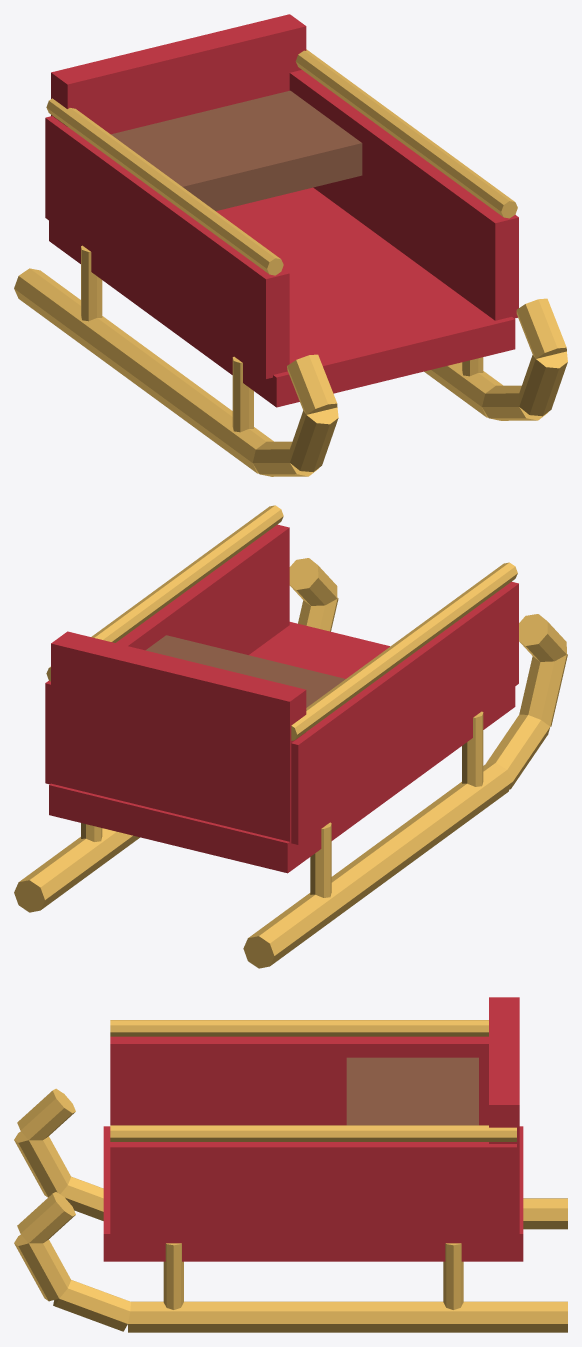
Rendered from sleigh.glb.
The picture shows the model from 3 angles, top to bottom: view 1: azimuth 30°, elevation 25°; view 2: azimuth 150°, elevation 25°; view 3: azimuth 270°, elevation 25°; orthographic projection. The views are drawn at different scales.
Parts seen in each view (by area): view 1: 000-santa-sleigh/0, 000-santa-sleigh/3, 000-santa-sleigh/11, 000-santa-sleigh/2, 000-santa-sleigh/1, 000-santa-sleigh/4, 000-santa-sleigh/10, 000-santa-sleigh/18, 000-santa-sleigh/14, 000-santa-sleigh/6, 000-santa-sleigh/7, 000-santa-sleigh/15 (+5 smaller); view 2: 000-santa-sleigh/1, 000-santa-sleigh/3, 000-santa-sleigh/0, 000-santa-sleigh/11, 000-santa-sleigh/4, 000-santa-sleigh/10, 000-santa-sleigh/18, 000-santa-sleigh/12, 000-santa-sleigh/2, 000-santa-sleigh/5, 000-santa-sleigh/6, 000-santa-sleigh/15 (+4 smaller); view 3: 000-santa-sleigh/11, 000-santa-sleigh/3, 000-santa-sleigh/12, 000-santa-sleigh/0, 000-santa-sleigh/2, 000-santa-sleigh/18, 000-santa-sleigh/10, 000-santa-sleigh/1, 000-santa-sleigh/13, 000-santa-sleigh/14, 000-santa-sleigh/6, 000-santa-sleigh/7 (+5 smaller).
Part boxes in pixels (box(x1,y1,x2,y2)): 000-santa-sleigh/0: box(49, 187, 515, 407); 000-santa-sleigh/3: box(45, 116, 289, 378); 000-santa-sleigh/11: box(289, 70, 518, 320); 000-santa-sleigh/2: box(111, 90, 362, 210); 000-santa-sleigh/1: box(51, 14, 306, 134); 000-santa-sleigh/4: box(14, 268, 273, 473); 000-santa-sleigh/10: box(46, 98, 283, 275); 000-santa-sleigh/18: box(295, 49, 517, 218); 000-santa-sleigh/14: box(519, 351, 567, 416); 000-santa-sleigh/6: box(290, 407, 338, 472); 000-santa-sleigh/7: box(287, 354, 337, 414); 000-santa-sleigh/15: box(516, 298, 566, 358); 000-santa-sleigh/1: box(51, 631, 306, 846); 000-santa-sleigh/3: box(291, 581, 518, 844); 000-santa-sleigh/0: box(49, 622, 515, 873); 000-santa-sleigh/11: box(45, 524, 289, 784); 000-santa-sleigh/4: box(243, 762, 512, 968); 000-santa-sleigh/10: box(291, 562, 517, 740); 000-santa-sleigh/18: box(46, 505, 283, 681); 000-santa-sleigh/12: box(14, 828, 139, 912); 000-santa-sleigh/2: box(145, 635, 345, 707); 000-santa-sleigh/5: box(486, 714, 549, 789); 000-santa-sleigh/6: box(519, 654, 567, 726); 000-santa-sleigh/15: box(289, 558, 337, 605); 000-santa-sleigh/11: box(110, 1142, 516, 1239); 000-santa-sleigh/3: box(110, 1036, 488, 1125); 000-santa-sleigh/12: box(128, 1301, 567, 1332); 000-santa-sleigh/0: box(103, 1126, 523, 1261); 000-santa-sleigh/2: box(346, 1057, 478, 1125); 000-santa-sleigh/18: box(110, 1125, 516, 1141); 000-santa-sleigh/10: box(110, 1020, 488, 1036); 000-santa-sleigh/1: box(489, 997, 519, 1238); 000-santa-sleigh/13: box(53, 1280, 130, 1331); 000-santa-sleigh/14: box(14, 1234, 70, 1301); 000-santa-sleigh/6: box(14, 1131, 70, 1197); 000-santa-sleigh/7: box(17, 1088, 75, 1140).
Bounding box in the file's own units: 1.09 × 0.9951 × 2.18.
